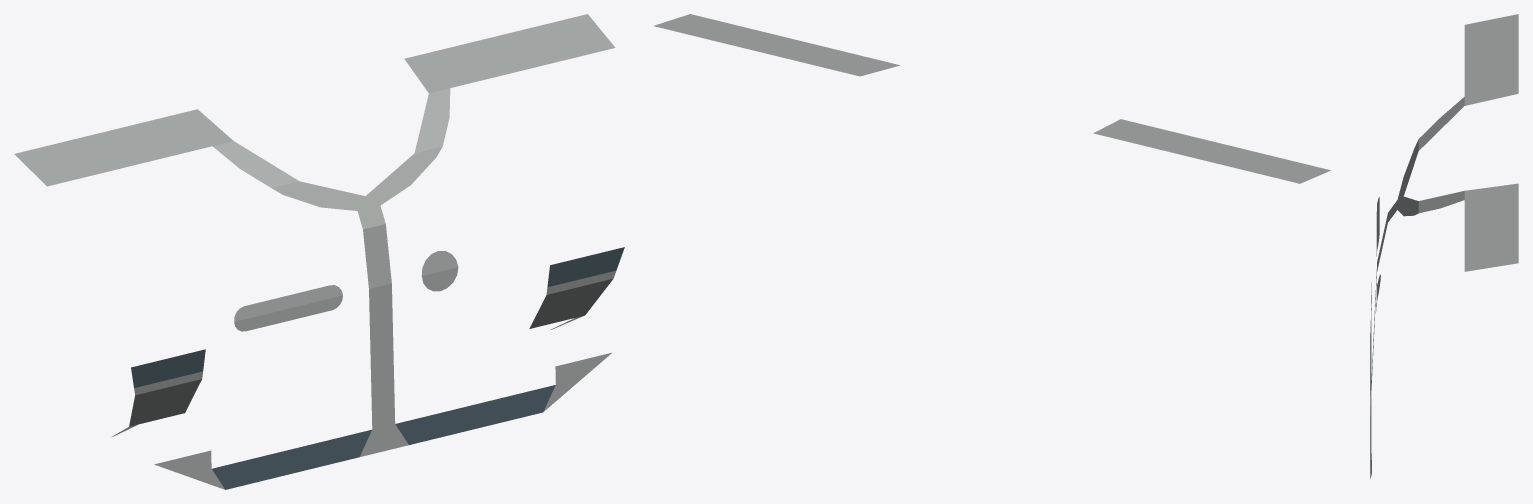
3 views of the same model, side by side, from view 1: azimuth 30°, elevation 25°; view 2: azimuth 150°, elevation 25°; view 3: azimuth 270°, elevation 25° (orthographic). The views are drawn at different scales.
Parts seen in each view (by area): view 1: world; view 2: world; view 3: world.
Boxes of the visible parts, <box> form: world: <box>14,14,624,489</box>; world: <box>654,14,1330,183</box>; world: <box>1370,14,1518,478</box>.
Size of the model in its own units: 0.02 by 0.0102 by 0.00503.
